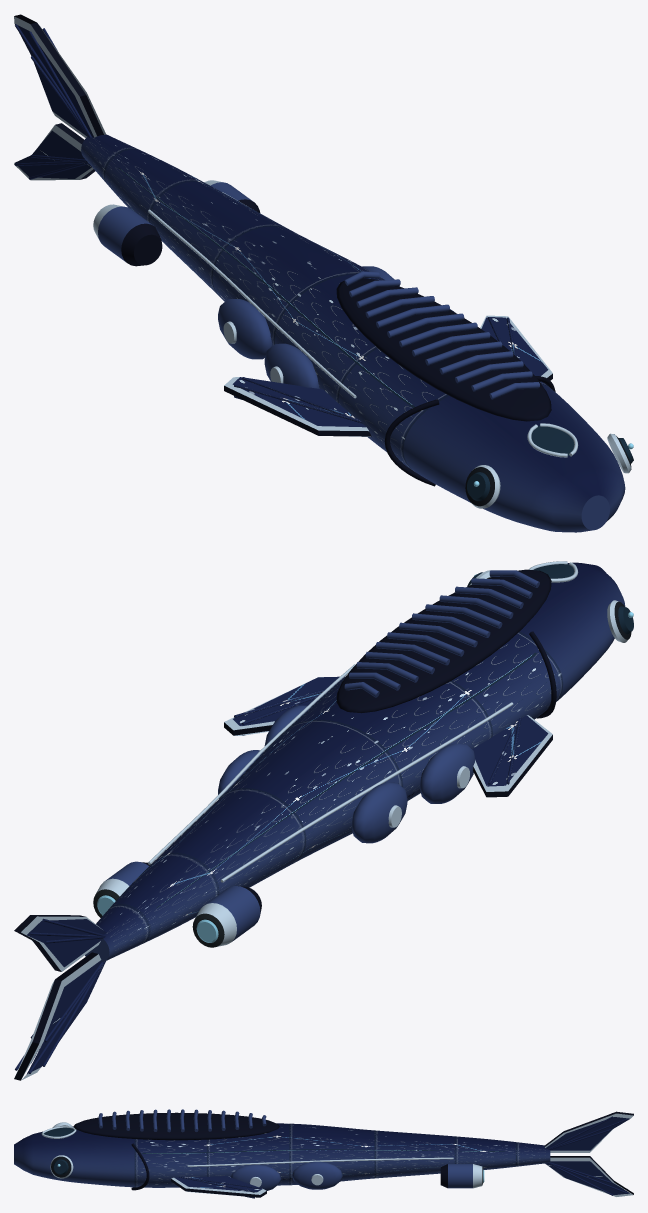
The picture shows the model from 3 angles, top to bottom: view 1: azimuth 30°, elevation 25°; view 2: azimuth 150°, elevation 25°; view 3: azimuth 270°, elevation 25°; orthographic projection. The views are drawn at different scales.
Visible parts, largest first — view 1: remora_hull; view 2: remora_hull; view 3: remora_hull.
Part boxes in pixels (<box>): remora_hull: <box>14,14,633,532</box>; remora_hull: <box>14,561,633,1080</box>; remora_hull: <box>14,1109,633,1198</box>.
Bounding box in the file's own units: 10.78 × 5.66 × 38.
1 material, 1 textured.
